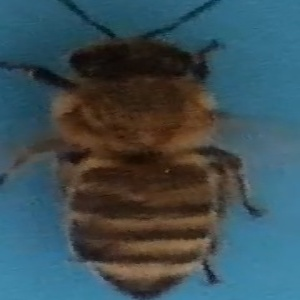bee: (27, 2, 273, 300)
